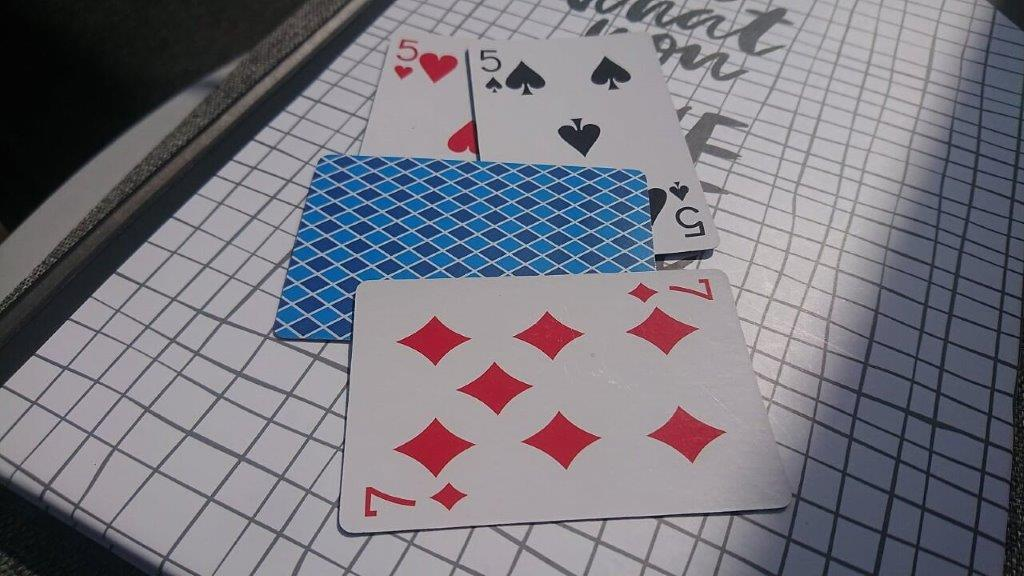5H: (391, 34, 421, 81)
5S: (477, 45, 505, 96)
BACK: (286, 152, 658, 268)
